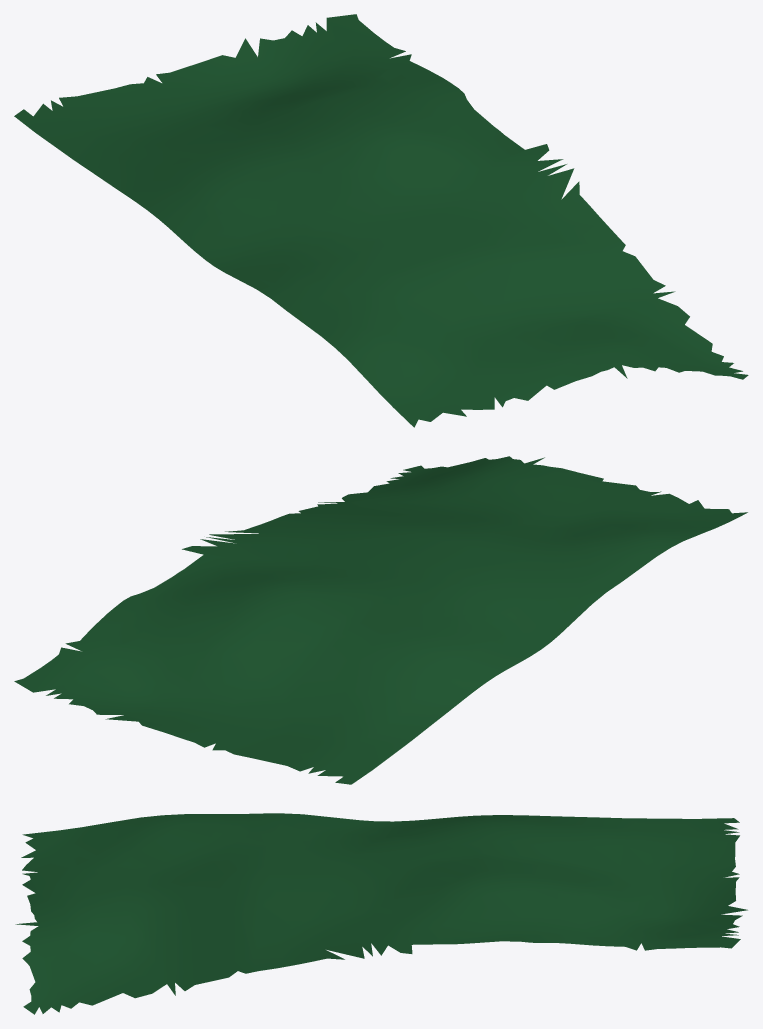
The model's file is payo_land_x4_y1_lod1.glb.
3 views of the same model, one above another, from view 1: azimuth 30°, elevation 25°; view 2: azimuth 150°, elevation 25°; view 3: azimuth 270°, elevation 25° (orthographic). The views are drawn at different scales.
Parts seen in each view (by area): view 1: payo_land_x4_y1; view 2: payo_land_x4_y1; view 3: payo_land_x4_y1.
Part boxes in pixels (box(x1,y1,x2,y2)): payo_land_x4_y1: box(14, 14, 748, 427); payo_land_x4_y1: box(14, 456, 747, 784); payo_land_x4_y1: box(15, 813, 747, 1014).
Size of the model in its own units: 132 by 31.99 by 267.
